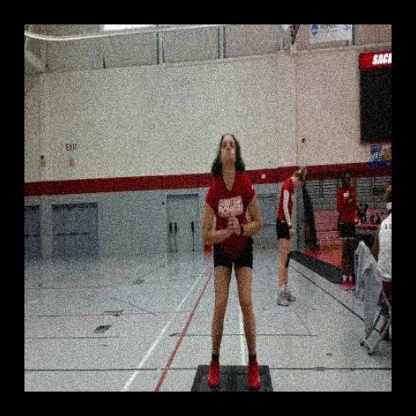lateral_flexion_right: (200, 129, 264, 392)
stance_width_normal: (200, 164, 263, 392)
